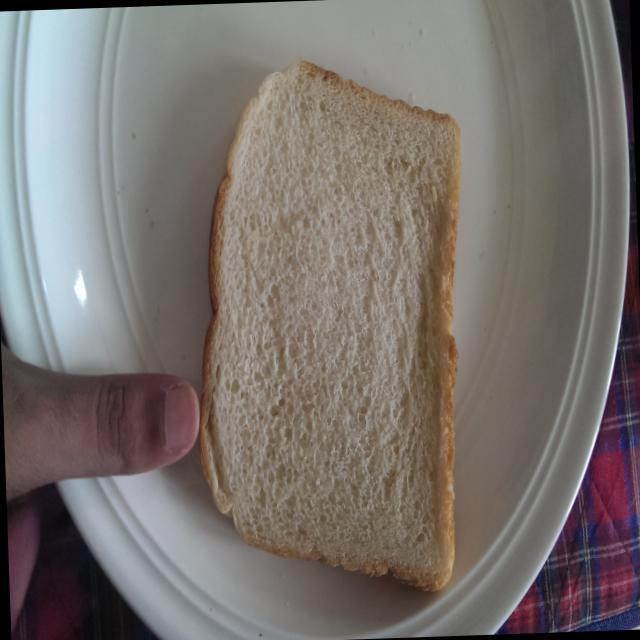Bread: (185, 52, 482, 605)
Finger: (72, 360, 206, 486)
